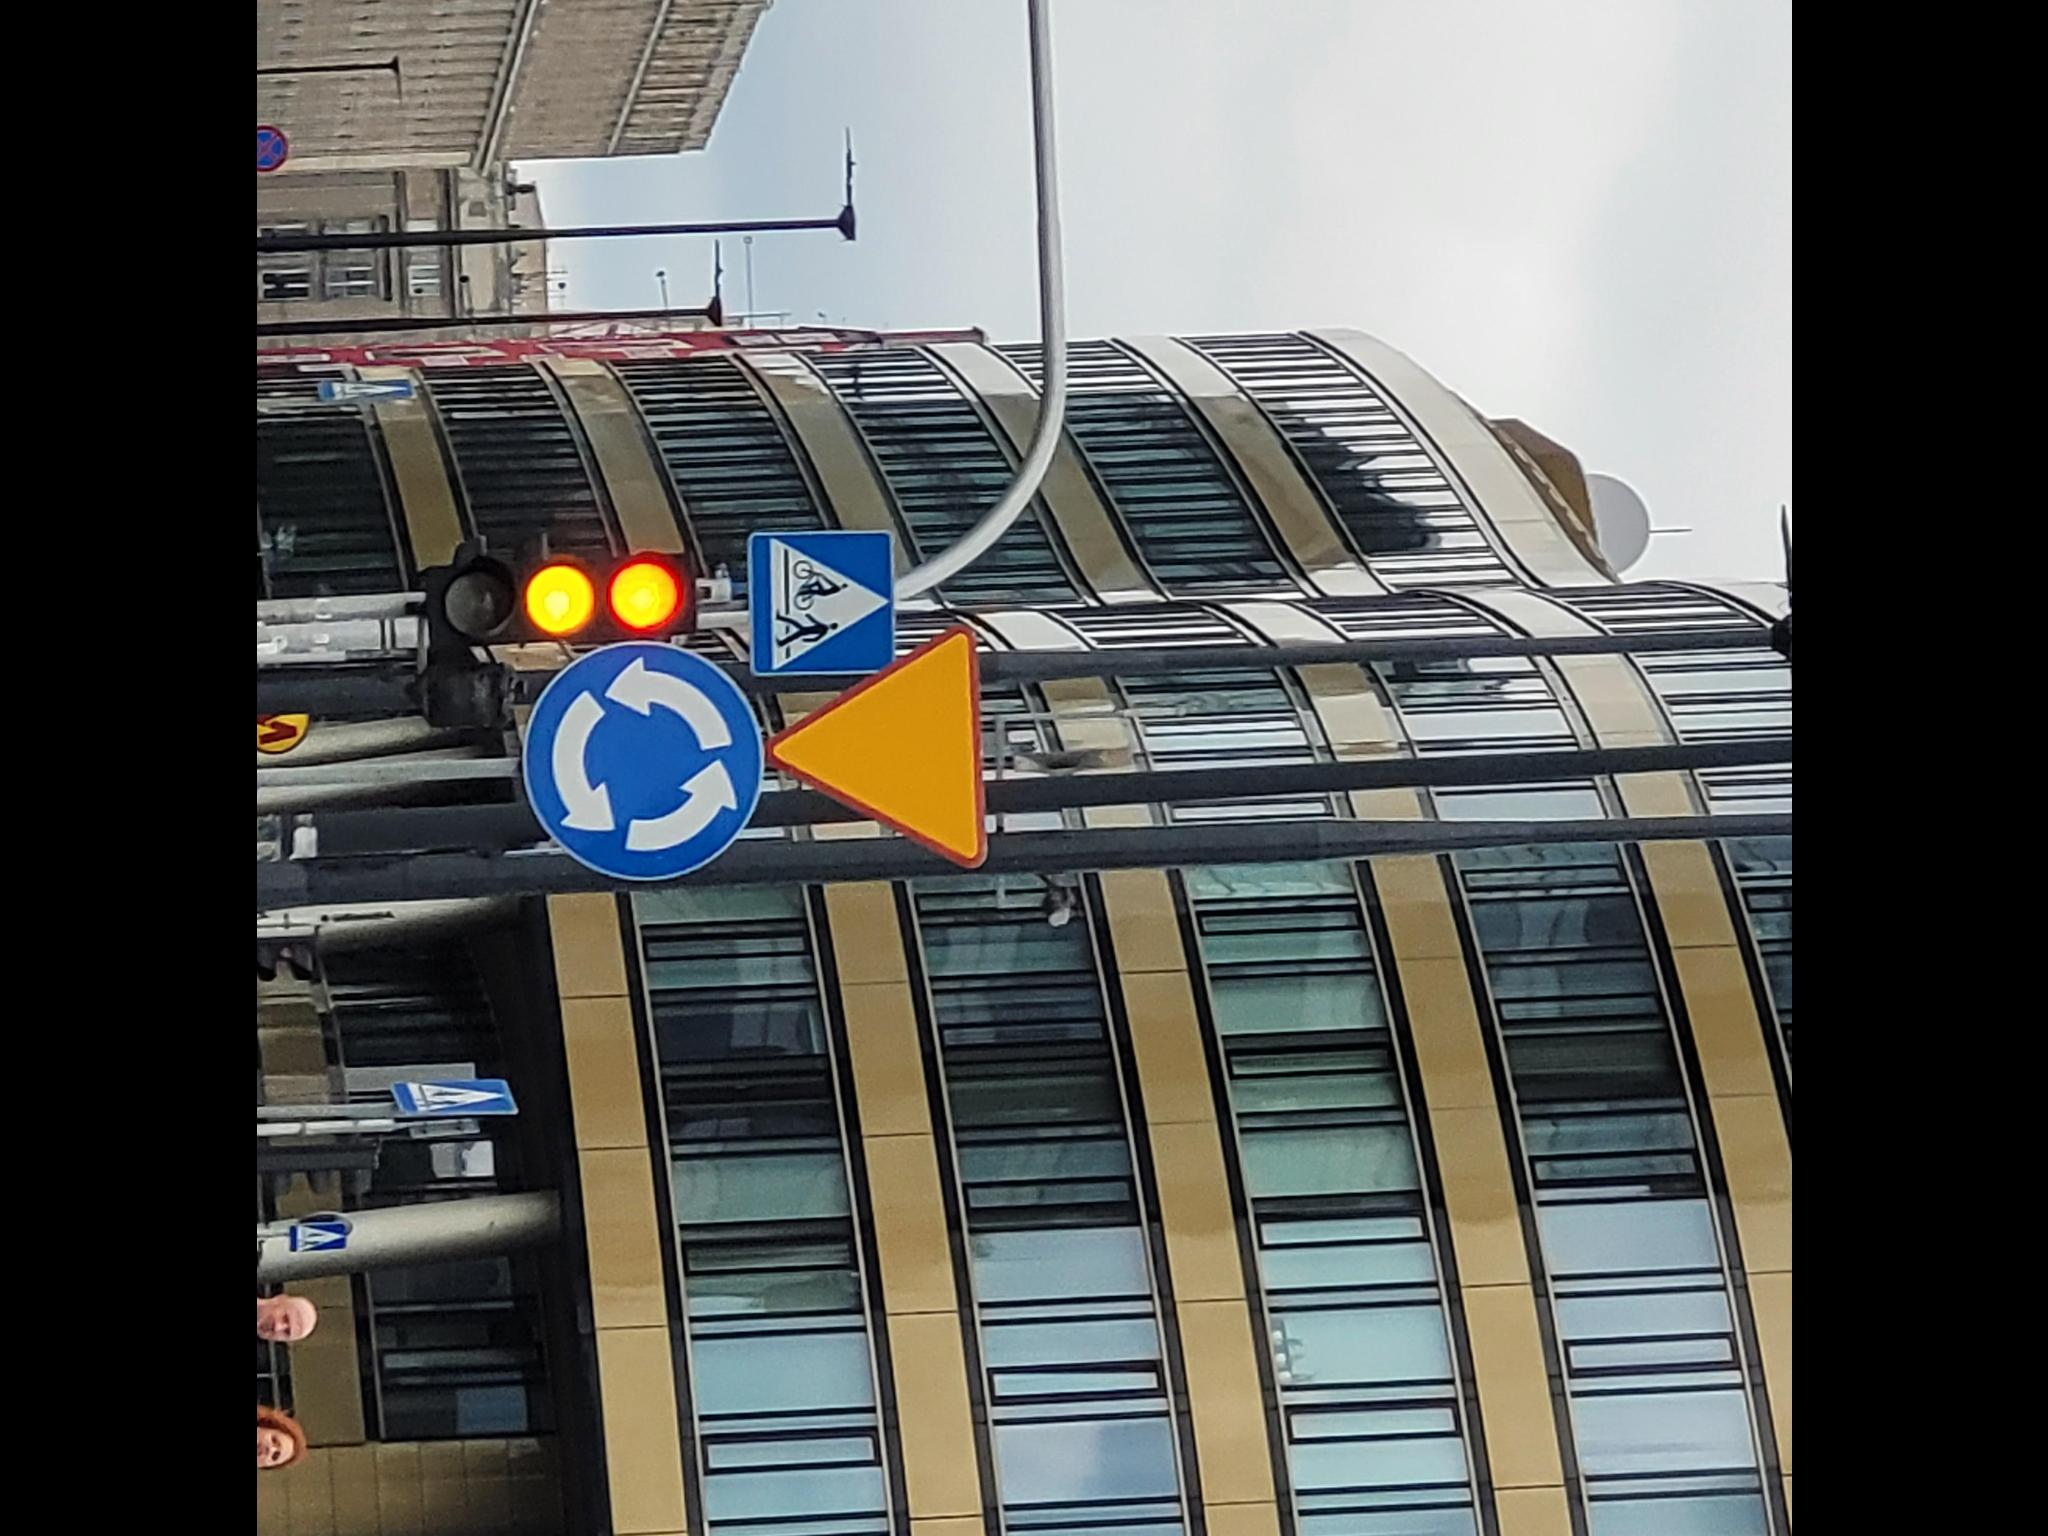information: (751, 529, 893, 673), (390, 1079, 518, 1117), (290, 1223, 347, 1254)
mandatory: (516, 639, 764, 884)
prohibitory: (256, 124, 289, 173)
warning: (764, 624, 987, 868)
